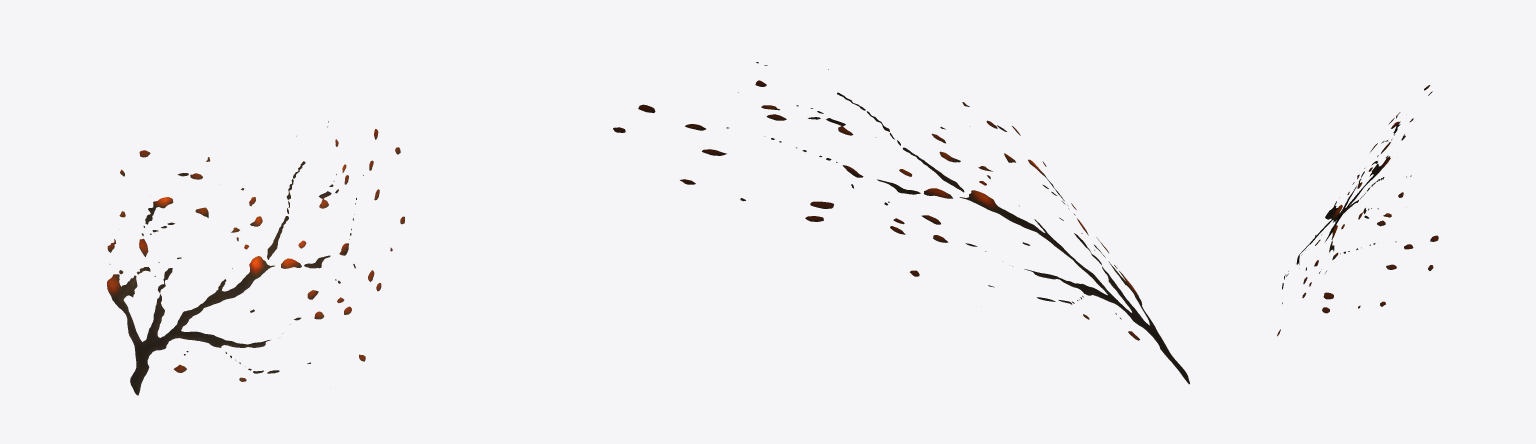
The model's file is rzjd_gress_07.FBX.
The picture shows the model from 3 angles, left to right: view 1: azimuth 30°, elevation 25°; view 2: azimuth 150°, elevation 25°; view 3: azimuth 270°, elevation 25°; orthographic projection. The views are drawn at different scales.
Visible parts, largest first — view 1: rzjd_gress_07; view 2: rzjd_gress_07; view 3: rzjd_gress_07.
Part boxes in pixels (x1,y1,x2,y2): rzjd_gress_07: [107, 121, 404, 395]; rzjd_gress_07: [613, 62, 1189, 384]; rzjd_gress_07: [1277, 85, 1438, 336].
Bounding box in the file's own units: 359 × 233 × 238.
